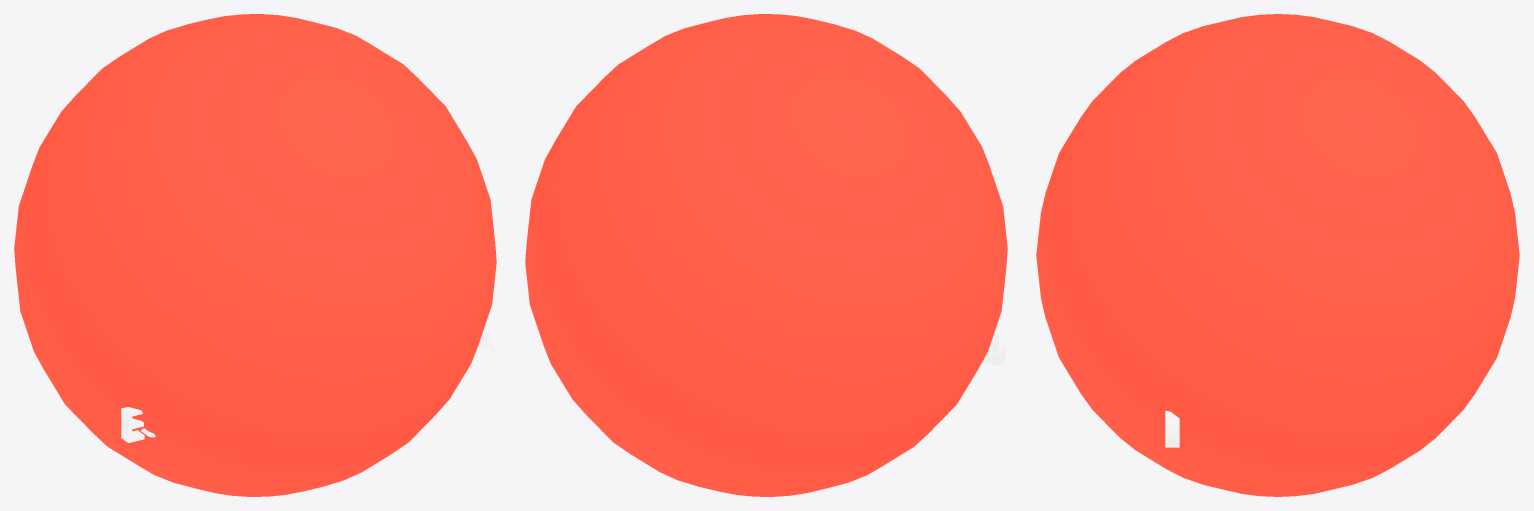
The model's file is escassez-de-agua.glb.
3 renders of one model, left to right at view 1: azimuth 30°, elevation 25°; view 2: azimuth 150°, elevation 25°; view 3: azimuth 270°, elevation 25°, orthographic.
Parts seen in each view (by area): view 1: Sphere.019, Text.022; view 2: Sphere.019, Text.022; view 3: Sphere.019.
Boxes of the visible parts, bbox=[...] form: Sphere.019: bbox=[14, 14, 496, 496]; Text.022: bbox=[121, 327, 496, 442]; Sphere.019: bbox=[525, 14, 1007, 496]; Text.022: bbox=[982, 329, 1005, 365]; Sphere.019: bbox=[1036, 14, 1519, 496].
Size of the model in its own units: 5.15 by 5.15 by 5.15.
